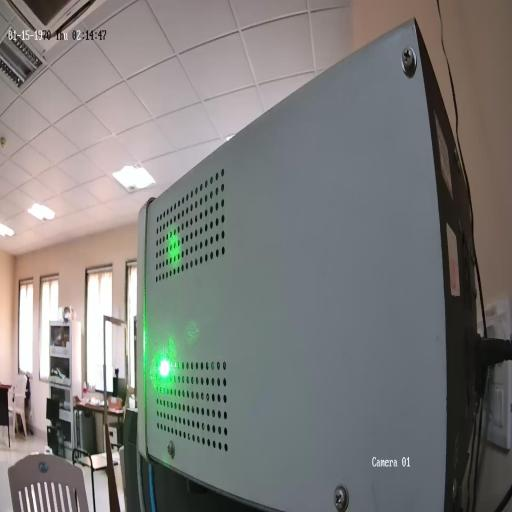laser: (157, 354, 172, 382)
